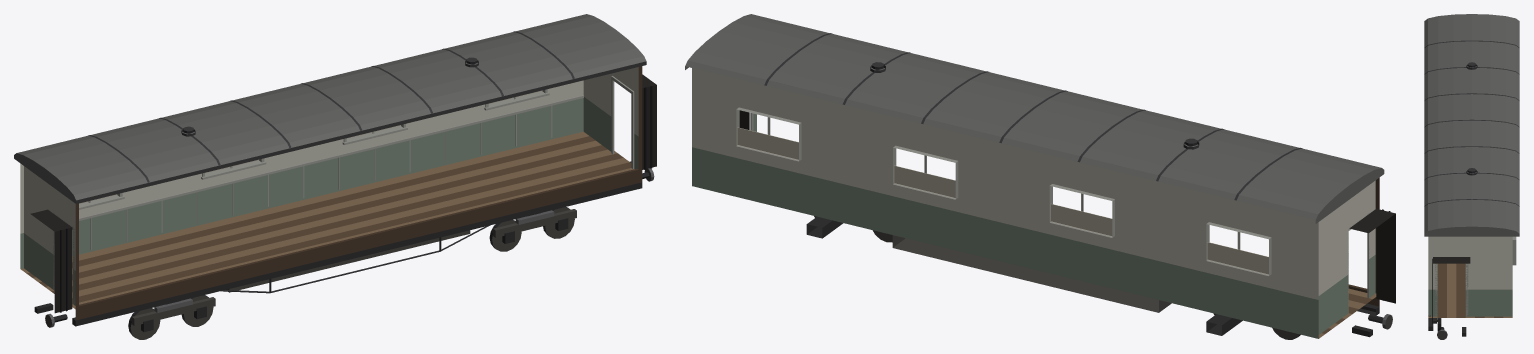
The model's file is shell_medic.glb.
3 renders of one model, left to right at view 1: azimuth 30°, elevation 25°; view 2: azimuth 150°, elevation 25°; view 3: azimuth 270°, elevation 25°, orthographic. The views are drawn at different scales.
Visible parts, largest first — view 1: shell_medic; view 2: shell_medic; view 3: shell_medic.
Boxes of the visible parts, x1,y1,x2,y2 form: shell_medic: (14,14,656,339); shell_medic: (685,14,1395,339); shell_medic: (1424,14,1519,339).
Bounding box in the file's own units: 17 × 4.81 × 3.04.
Materials: 1 (1 with a texture image).
